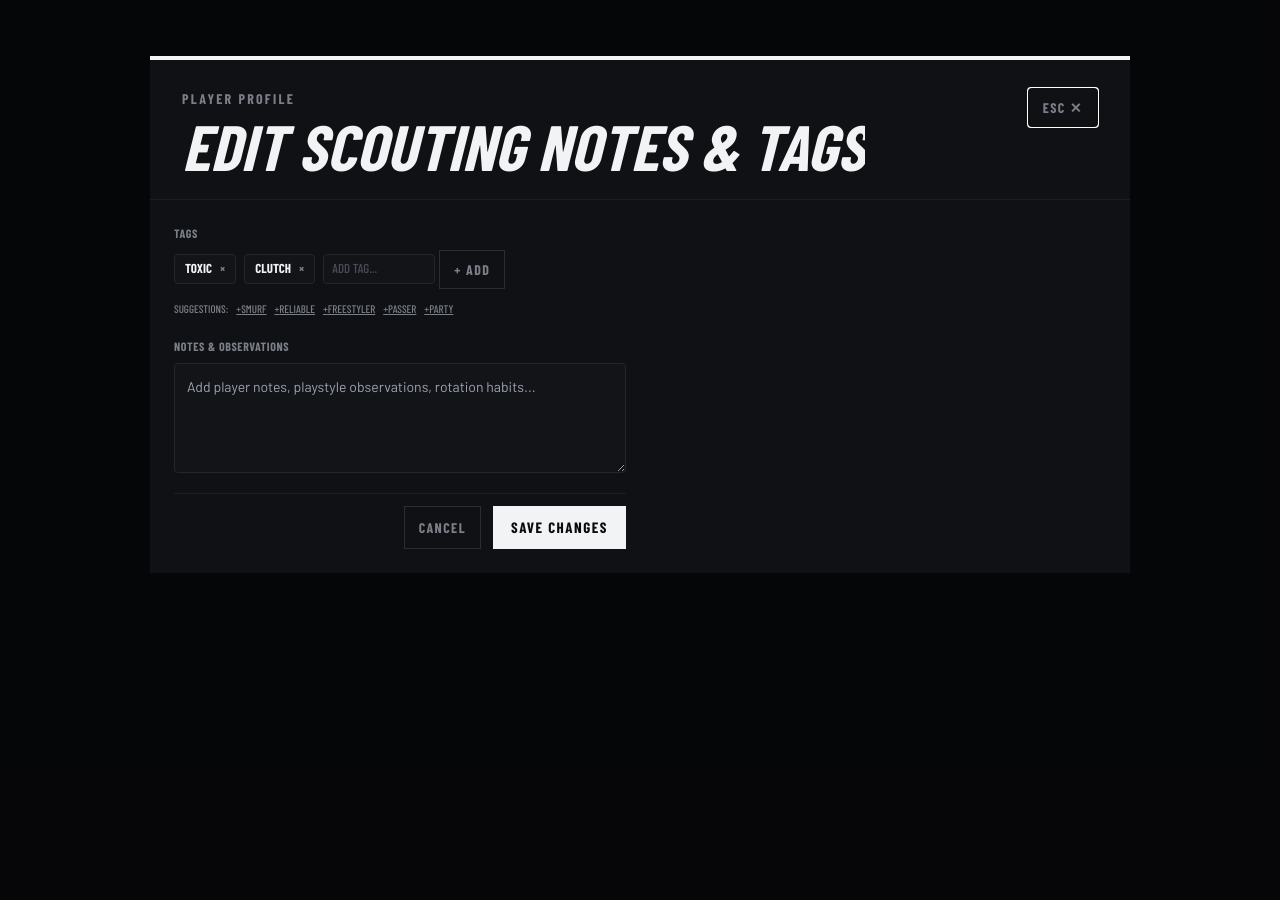
Test: PlayerNotesModal › allows removing an existing tag
expect the element with test id "tag-chip-toxic" is shown: met, box [174,254,236,284]
Click the button "×" next to "toxic" at (223, 269), box [220,259,225,279]
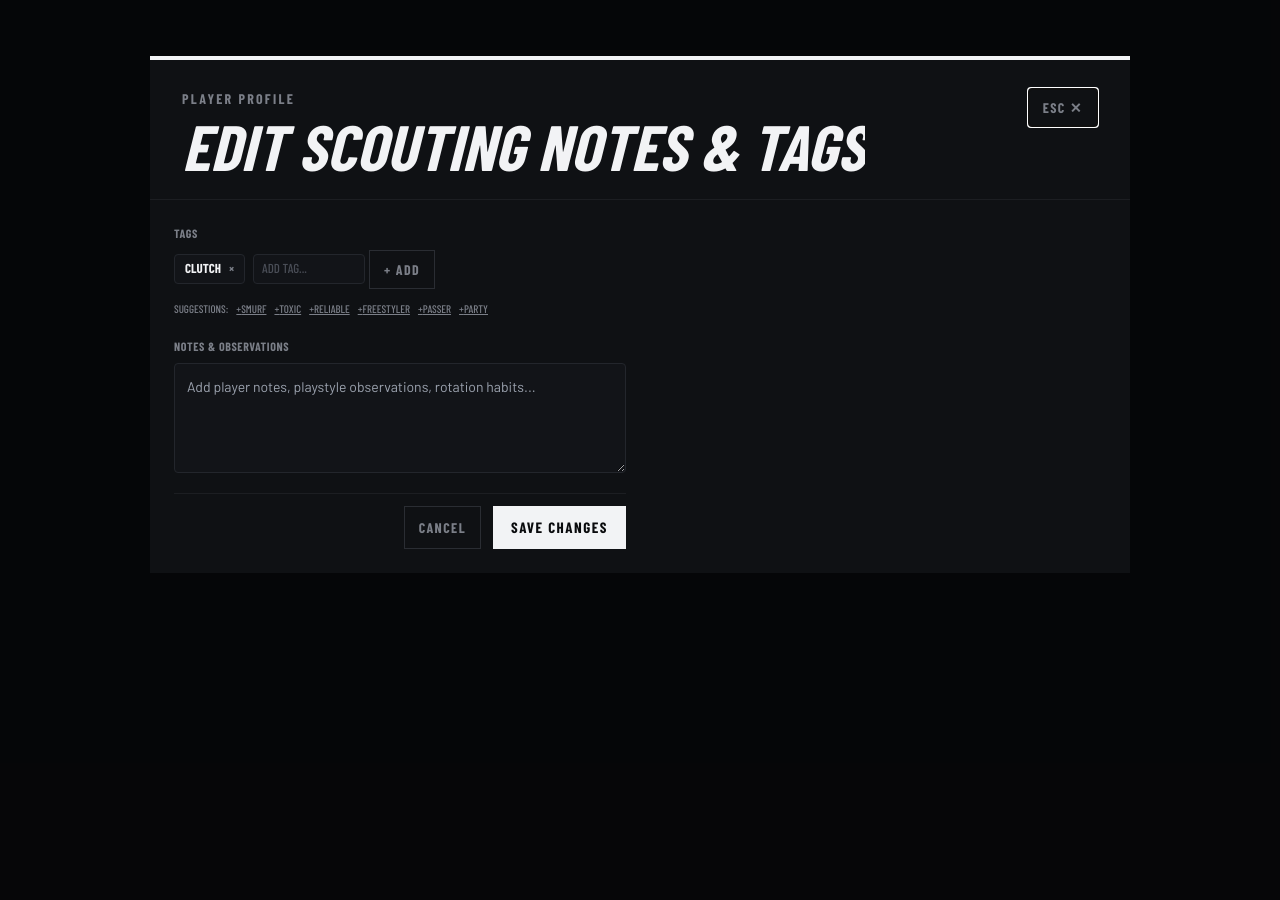
expect the element with test id "tag-chip-clutch" is shown: met, box [174,254,245,284]
expect the element with test id "tag-chip-toxic" is gone: met
